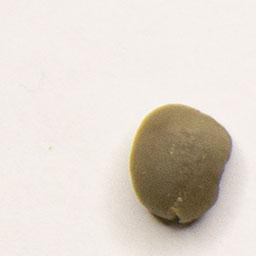peaberry: (125, 101, 236, 228)
